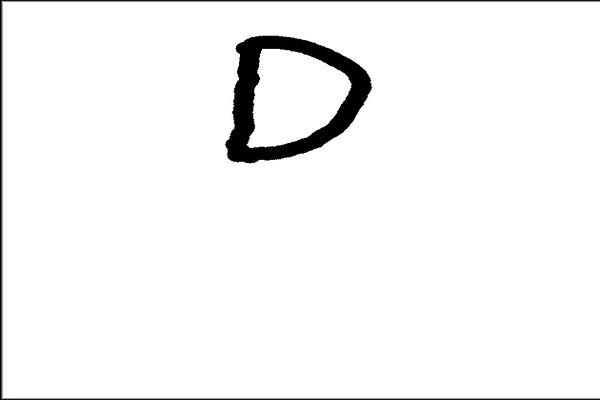D: (220, 29, 376, 171)
